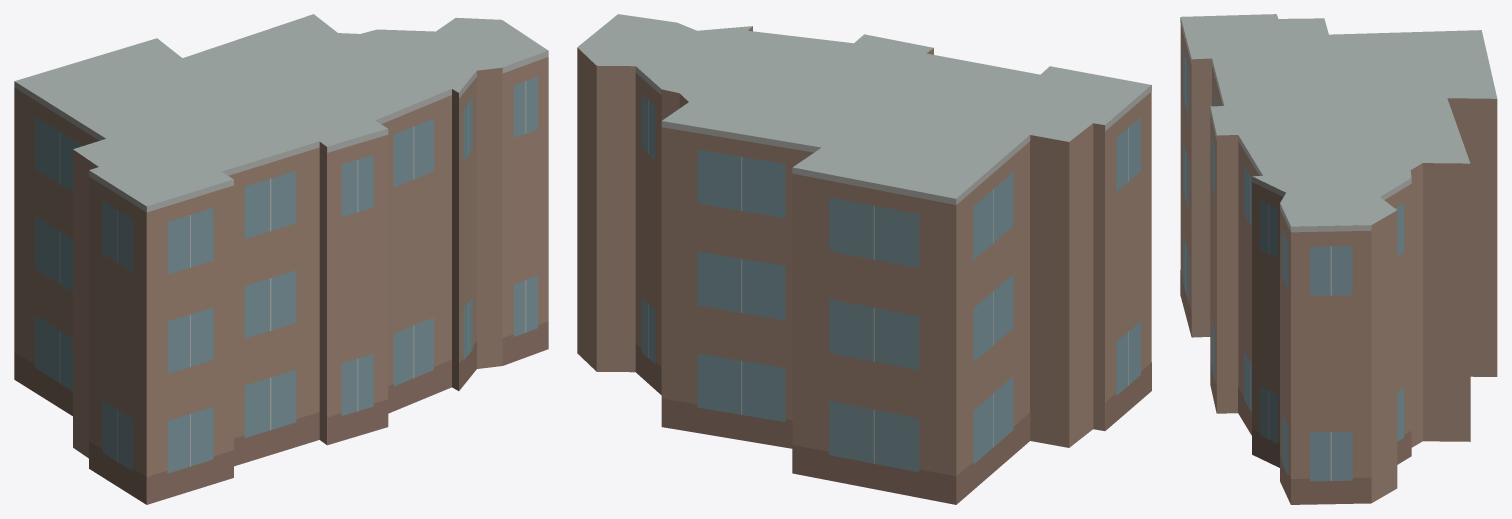
Rendered from survey-upis-32525200.glb.
The picture shows the model from 3 angles, left to right: view 1: azimuth 30°, elevation 25°; view 2: azimuth 150°, elevation 25°; view 3: azimuth 270°, elevation 25°; orthographic projection. The views are drawn at different scales.
Parts seen in each view (by area): view 1: survey-upis-32525200.tmp; view 2: survey-upis-32525200.tmp; view 3: survey-upis-32525200.tmp.
Part boxes in pixels (box(x1,y1,x2,y2)): survey-upis-32525200.tmp: box(14, 14, 548, 504); survey-upis-32525200.tmp: box(577, 14, 1151, 504); survey-upis-32525200.tmp: box(1180, 14, 1497, 504).
Size of the model in its own units: 19.62 by 11.97 by 12.37.
